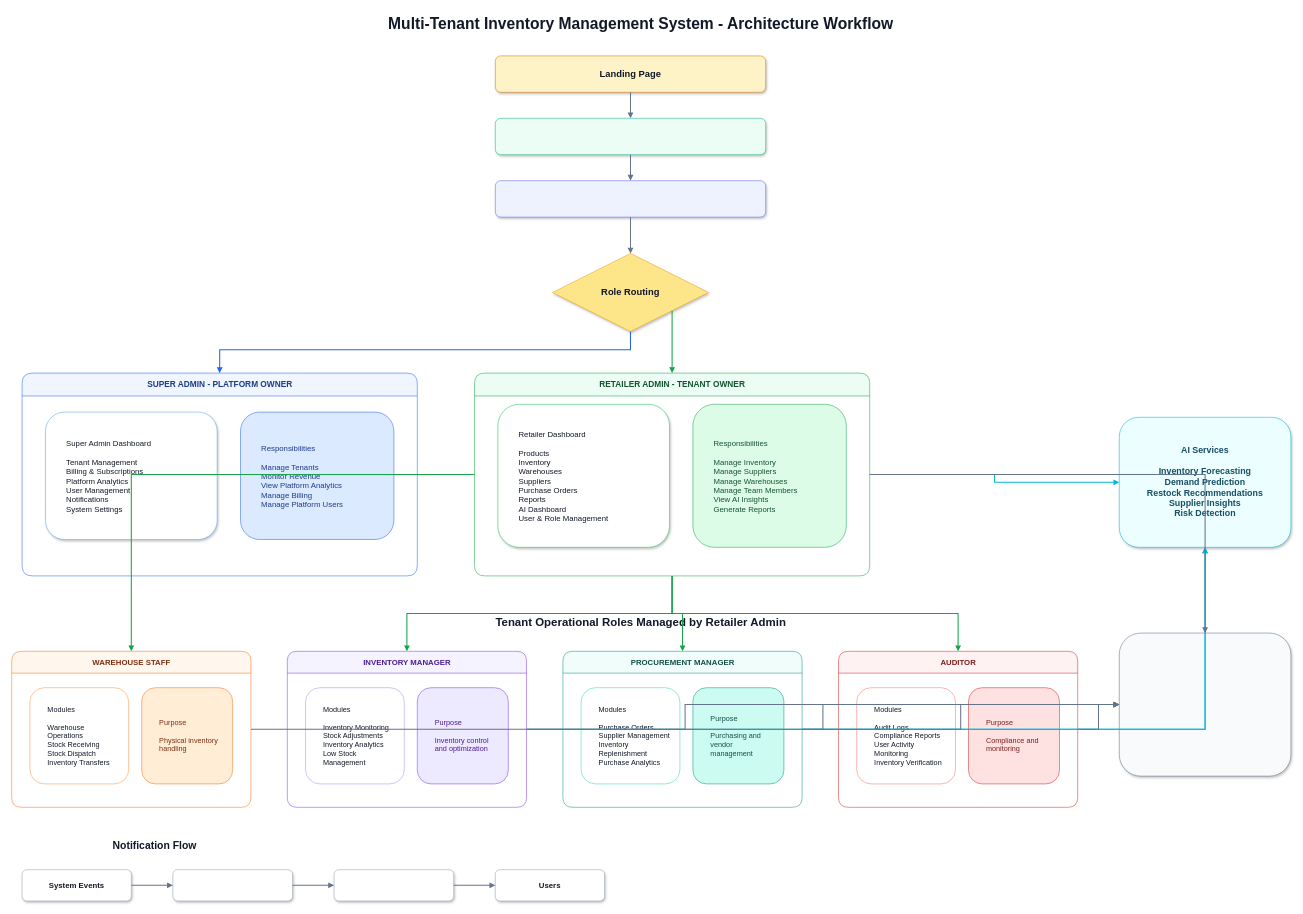
Some shapes in this 1303 by 914 pixel diagram are drawn without their labels. Here are the shapes that lost their labels. From the top down, the centre of each, then its label:
At pixel 631 137: "Authentication".
At pixel 631 199: "Role Validation".
At pixel 1205 705: "Shared Services Notifications Search Reports Export Profile Management Logout".
At pixel 233 886: "Notification Engine".
At pixel 394 886: "Role-Based Delivery".
